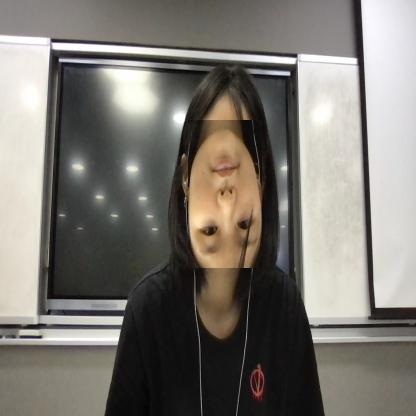happy: (188, 120, 263, 269)
